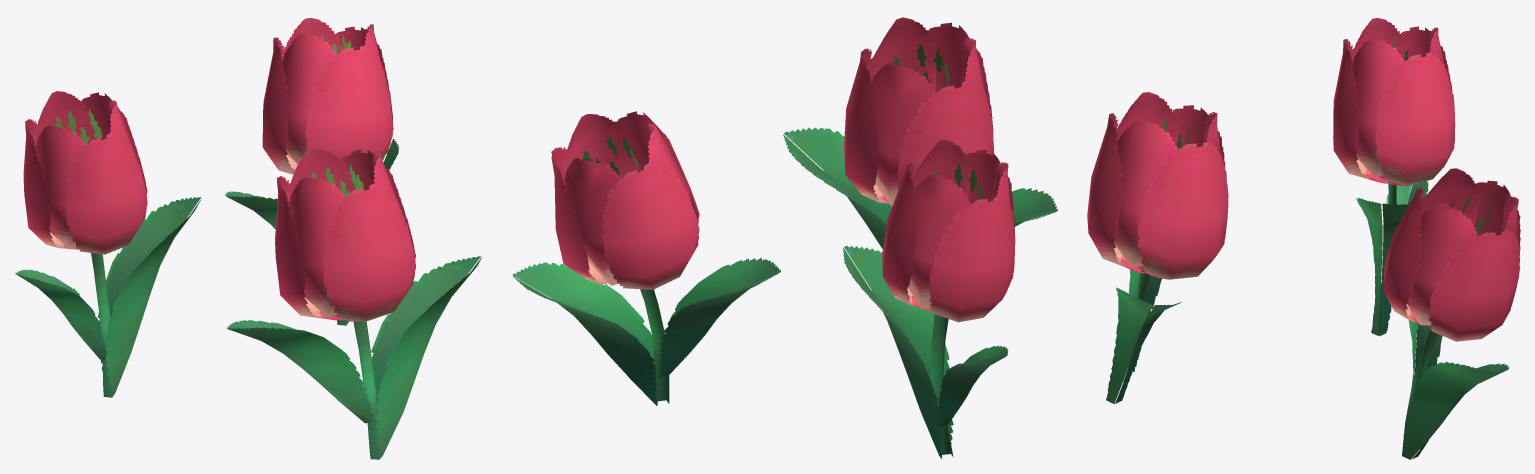
The model's file is pink-tulips.glb.
The picture shows the model from 3 angles, left to right: view 1: azimuth 30°, elevation 25°; view 2: azimuth 150°, elevation 25°; view 3: azimuth 270°, elevation 25°; orthographic projection. The views are drawn at different scales.
Size of the model in its own units: 9.86 by 6.64 by 8.68.
Materials: 2 (2 with a texture image).
